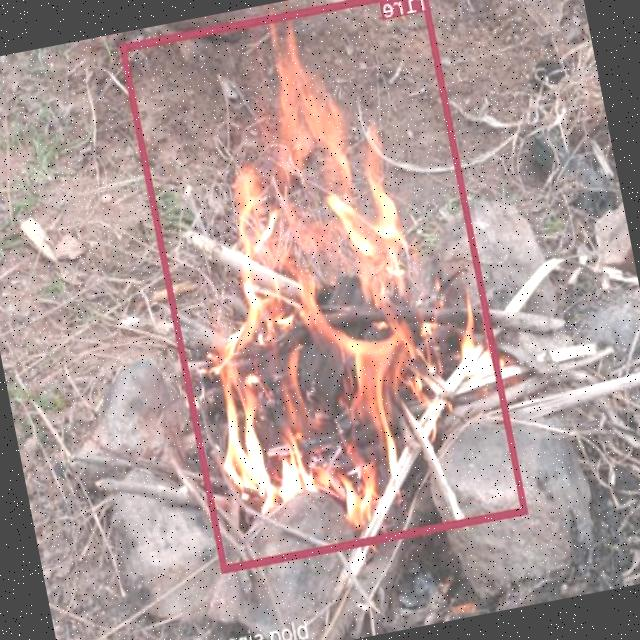fire: (120, 0, 528, 571)
